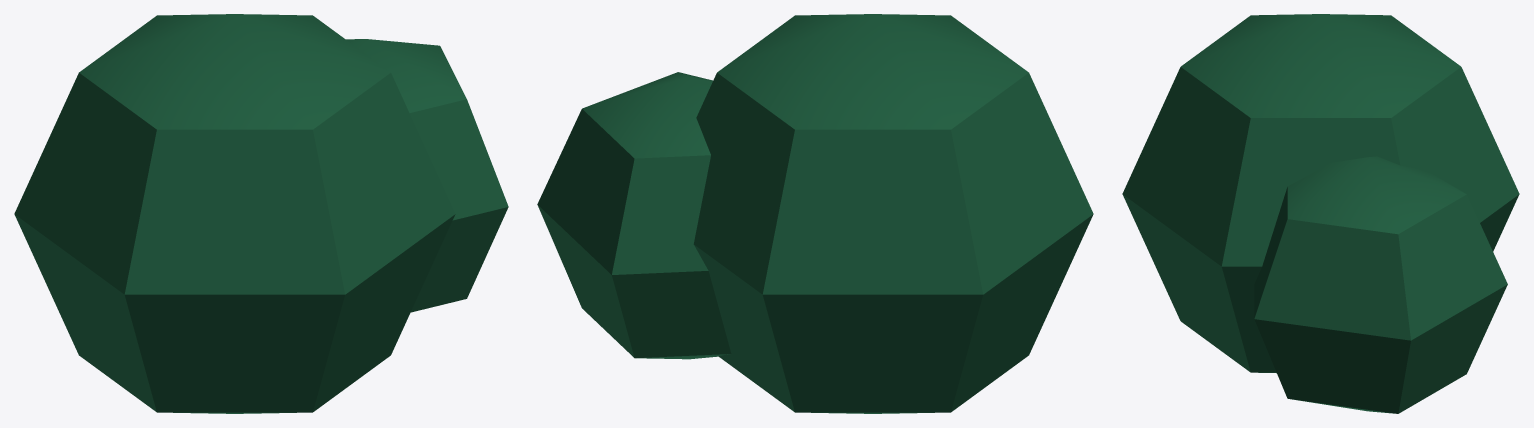
The model's file is bush_lod1.glb.
The picture shows the model from 3 angles, left to right: view 1: azimuth 30°, elevation 25°; view 2: azimuth 150°, elevation 25°; view 3: azimuth 270°, elevation 25°; orthographic projection. The views are drawn at different scales.
Parts seen in each view (by area): view 1: leaf; view 2: leaf; view 3: leaf.
Boxes of the visible parts, left/top/right/bottom form: leaf: left=14, top=14, right=508, bottom=413; leaf: left=537, top=14, right=1093, bottom=413; leaf: left=1122, top=14, right=1519, bottom=413.
Bounding box in the file's own units: 2.01 × 1.7 × 1.7.
